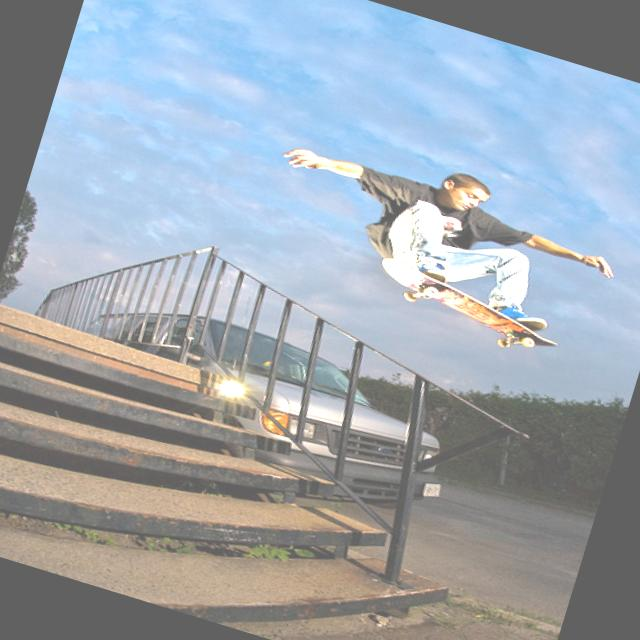Vehicle: (44, 274, 478, 533)
